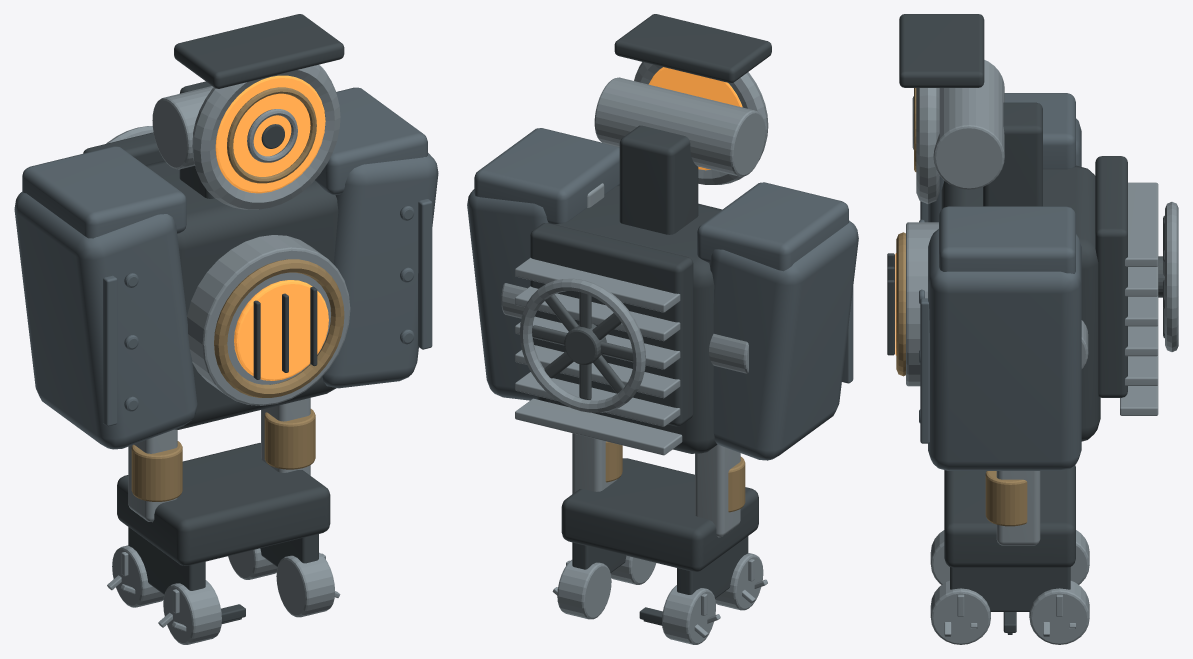
The model's file is induction-warden.glb.
3 views of the same model, side by side, from view 1: azimuth 30°, elevation 25°; view 2: azimuth 150°, elevation 25°; view 3: azimuth 270°, elevation 25° (orthographic). The views are drawn at different scales.
Visible parts, largest first — view 1: ArmorLeft, Frame, ArmorRight, Steel, Emitter, Brass, TrackSupport, RollerLeftFront, RollerRightFront, RollerLeftRear, RollerRightRear; view 2: Frame, Steel, ArmorLeft, ArmorRight, Fan, TrackSupport, RollerRightRear, RollerLeftRear, Emitter, RollerLeftFront, Brass, RollerRightFront; view 3: ArmorRight, Frame, Steel, TrackSupport, Brass, ArmorLeft, RollerRightRear, RollerRightFront, RollerLeftFront, RollerLeftRear, Fan.
Part boxes in pixels (x1=…): ArmorLeft: x1=14, y1=146, x2=197, y2=449; Frame: x1=83, y1=14, x2=344, y2=565; ArmorRight: x1=315, y1=87, x2=438, y2=388; Steel: x1=106, y1=64, x2=350, y2=522; Emitter: x1=215, y1=75, x2=328, y2=380; Brass: x1=131, y1=87, x2=344, y2=501; TrackSupport: x1=128, y1=527, x2=318, y2=594; RollerLeftFront: x1=158, y1=580, x2=221, y2=644; RollerRightFront: x1=276, y1=552, x2=340, y2=617; RollerLeftRear: x1=107, y1=545, x2=164, y2=607; RollerRightRear: x1=228, y1=548, x2=277, y2=579; Frame: x1=530, y1=14, x2=771, y2=571; Steel: x1=501, y1=62, x2=768, y2=537; ArmorLeft: x1=697, y1=182, x2=858, y2=460; ArmorRight: x1=467, y1=128, x2=619, y2=400; Fan: x1=532, y1=292, x2=633, y2=399; TrackSupport: x1=572, y1=536, x2=748, y2=598; RollerRightRear: x1=552, y1=560, x2=611, y2=619; RollerLeftRear: x1=662, y1=585, x2=720, y2=644; Emitter: x1=648, y1=67, x2=742, y2=170; RollerLeftFront: x1=715, y1=553, x2=767, y2=610; Brass: x1=605, y1=441, x2=745, y2=512; RollerRightFront: x1=610, y1=555, x2=656, y2=584; ArmorRight: x1=919, y1=206, x2=1081, y2=470; Frame: x1=887, y1=14, x2=1127, y2=567; Steel: x1=906, y1=60, x2=1178, y2=545; TrackSupport: x1=950, y1=567, x2=1070, y2=611; Brass: x1=896, y1=88, x2=1027, y2=526; ArmorLeft: x1=919, y1=93, x2=1081, y2=222; RollerRightRear: x1=1029, y1=581, x2=1089, y2=644; RollerRightFront: x1=930, y1=580, x2=990, y2=644; RollerLeftFront: x1=930, y1=530, x2=949, y2=584; RollerLeftRear: x1=1070, y1=530, x2=1089, y2=584; Fan: x1=1158, y1=215, x2=1164, y2=338.
Bounding box in the file's own units: 1.46 × 2.35 × 1.06.
